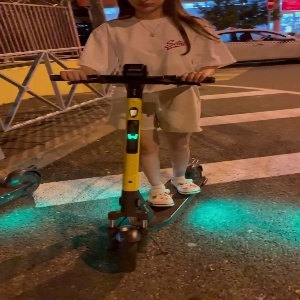human on a scooter: (49, 1, 237, 273)
